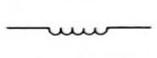inductor: (42, 18, 118, 40)
